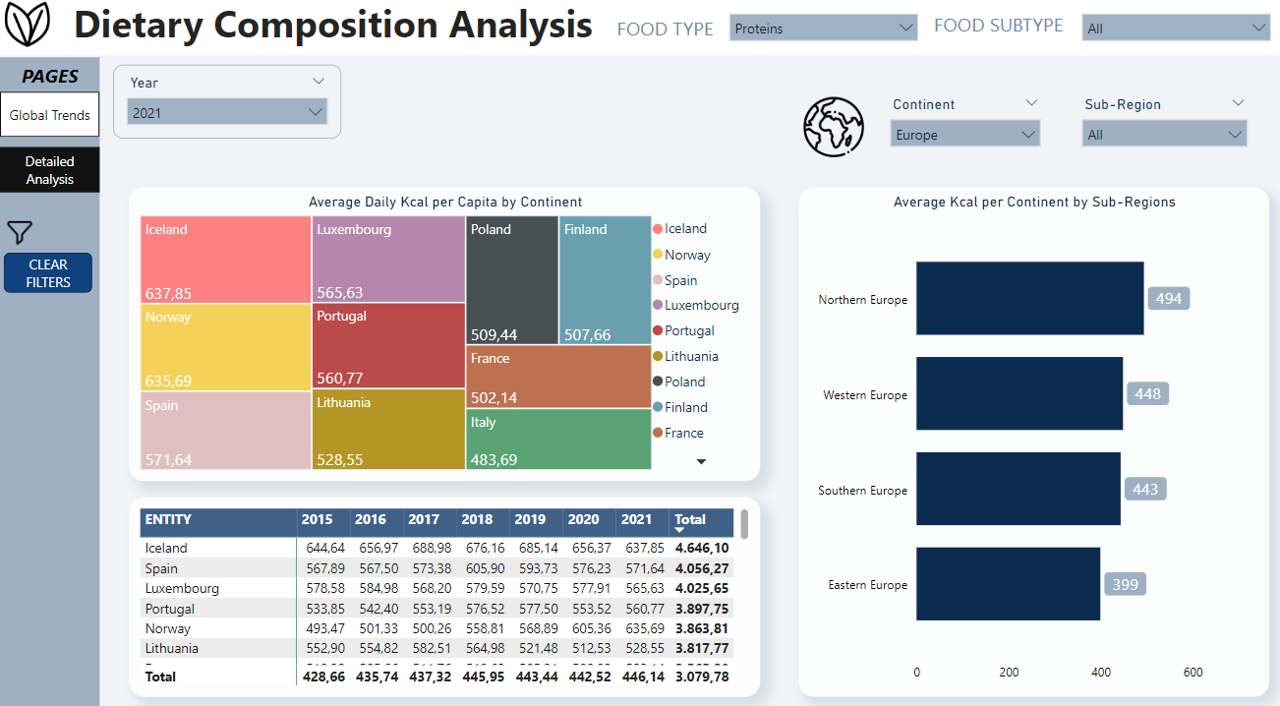

What the dashboard file says about the page in this screenshot:
{"tool":"powerbi","page":{"name":"Detailed Analysis","canvas":[1280,720],"ordinal":1},"visuals":[{"type":"shape","box":[0,0,1280.3,63.6],"z":0},{"type":"textbox","box":[54.3,0,555,61.5],"z":1000},{"type":"slicer","fields":{"Values":["Dim_Food_Category.Food_Type_Group"]},"box":[715.4,10.9,208.7,43.4],"z":2000},{"type":"slicer","fields":{"Values":["Dim_Food_Category.Food_Type"]},"box":[1066.5,10.9,208.7,53.1],"z":3000},{"type":"image","box":[0,2.4,54.3,59.1],"z":4000},{"type":"textbox","box":[924.1,14.5,153.2,36.2],"z":5000},{"type":"textbox","box":[609.3,18.1,121.9,36.2],"z":6000},{"type":"slicer","fields":{"Values":["Dim_Country.Geographical sub-group"]},"box":[1066.3,98.1,185,73.2],"z":7000},{"type":"barChart","title":"Average Kcal per Continent by Sub-Regions","fields":{"Category":["Dim_Country.Geographical sub-group"],"Y":["Fact_diet_composition.Average_Kilocalories_Per_Continent"]},"box":[794.4,194.9,468,506.4],"z":8000},{"type":"treemap","title":"Average Daily Kcal per Capita by Continent","fields":{"Group":["Dim_Country.ENTITY"],"Values":["Fact_diet_composition.Average_Kilocalories_Per_Continent"]},"box":[127.9,194.9,628.1,291.7],"z":9000},{"type":"pivotTable","fields":{"Columns":["Fact_diet_composition.YEAR"],"Rows":["Dim_Country.ENTITY"],"Values":["Fact_diet_composition.Average_Kilocalories_Per_Continent"]},"box":[127.9,502.7,628.1,198.6],"z":10000},{"type":"image","box":[794.4,98.1,69.5,73.2],"z":11000},{"type":"slicer","title":"Year","fields":{"Values":["Fact_diet_composition.YEAR"]},"box":[112.5,72.1,227.4,73.4],"z":12000},{"type":"shape","box":[0,64.5,99.3,655.4],"z":13000},{"type":"image","box":[0,217.2,39.7,42.2],"z":14000},{"type":"shape","box":[3.7,259.4,88.1,39.7],"z":15000},{"type":"textbox","box":[0,64.5,99.3,41],"z":16000},{"type":"pageNavigator","box":[0,99.3,99.3,101.8],"z":17000},{"type":"slicer","fields":{"Values":["Dim_Country.Geographical group"]},"box":[875.1,98.1,170.1,73.2],"z":18000}]}

Visuals, with their boxes in screenshot pixels (x1, y1, x2, y2), scaled from the page's 1280x720 canvas onto the 1280x706 screenshot:
shape: pyautogui.locateOnScreen(0, 0, 1279, 62)
textbox: pyautogui.locateOnScreen(54, 0, 609, 60)
slicer - Dim_Food_Category.Food_Type_Group: pyautogui.locateOnScreen(715, 11, 924, 53)
slicer - Dim_Food_Category.Food_Type: pyautogui.locateOnScreen(1066, 11, 1275, 63)
image: pyautogui.locateOnScreen(0, 2, 54, 60)
textbox: pyautogui.locateOnScreen(924, 14, 1077, 50)
textbox: pyautogui.locateOnScreen(609, 18, 731, 53)
slicer - Dim_Country.Geographical sub-group: pyautogui.locateOnScreen(1066, 96, 1251, 168)
"Average Kcal per Continent by Sub-Regions" barChart: pyautogui.locateOnScreen(794, 191, 1262, 688)
"Average Daily Kcal per Capita by Continent" treemap: pyautogui.locateOnScreen(128, 191, 756, 477)
pivotTable - Fact_diet_composition.YEAR x Dim_Country.ENTITY: pyautogui.locateOnScreen(128, 493, 756, 688)
image: pyautogui.locateOnScreen(794, 96, 864, 168)
"Year" slicer: pyautogui.locateOnScreen(112, 71, 340, 143)
shape: pyautogui.locateOnScreen(0, 63, 99, 705)
image: pyautogui.locateOnScreen(0, 213, 40, 254)
shape: pyautogui.locateOnScreen(4, 254, 92, 293)
textbox: pyautogui.locateOnScreen(0, 63, 99, 103)
pageNavigator: pyautogui.locateOnScreen(0, 97, 99, 197)
slicer - Dim_Country.Geographical group: pyautogui.locateOnScreen(875, 96, 1045, 168)
